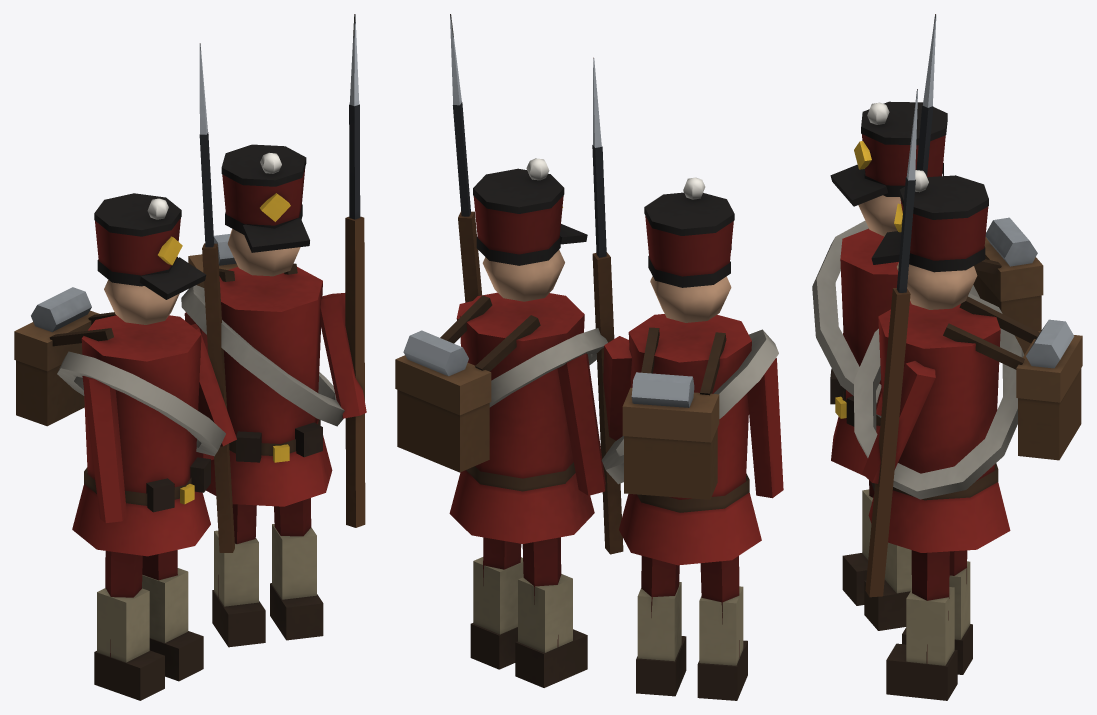
The model's file is sentry_dl5_red.glb.
3 views of the same model, side by side, from view 1: azimuth 30°, elevation 25°; view 2: azimuth 150°, elevation 25°; view 3: azimuth 270°, elevation 25° (orthographic). The views are drawn at different scales.
Visible parts, largest first — view 1: sentry_dl5_red; view 2: sentry_dl5_red; view 3: sentry_dl5_red.
Part boxes in pixels (<box>): sentry_dl5_red: <box>14,14,366,700</box>; sentry_dl5_red: <box>395,14,783,700</box>; sentry_dl5_red: <box>812,14,1082,700</box>.
Bounding box in the file's own units: 0.2701 × 0.5225 × 0.2037.
1 material, 1 textured.
